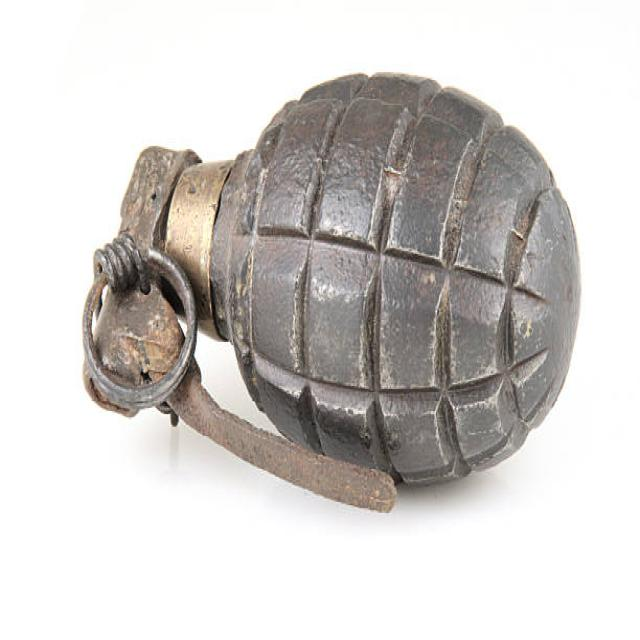grenade: (73, 53, 585, 525)
